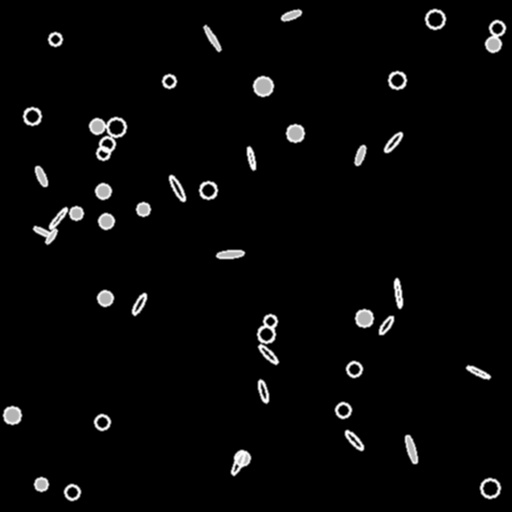pseudomonas: (202, 24, 222, 52), (168, 174, 186, 202), (257, 343, 279, 365), (343, 429, 365, 451), (48, 206, 68, 230), (383, 131, 403, 153), (130, 293, 148, 315), (404, 435, 418, 463), (466, 364, 490, 380), (230, 451, 246, 475), (377, 315, 395, 335), (353, 144, 367, 166), (280, 8, 302, 22), (34, 165, 48, 187), (257, 379, 269, 403), (33, 225, 53, 239), (216, 249, 244, 259), (394, 279, 402, 307), (246, 147, 256, 169), (45, 228, 57, 244)
synechocystis: (481, 479, 499, 497), (426, 10, 444, 28), (107, 118, 125, 136), (254, 77, 272, 95), (200, 182, 216, 198), (4, 407, 20, 423), (258, 326, 274, 342), (24, 108, 40, 124), (356, 310, 372, 326), (389, 72, 405, 88), (287, 125, 303, 141), (347, 362, 361, 376), (98, 291, 112, 305), (490, 21, 504, 35), (486, 37, 500, 51), (99, 214, 113, 228), (235, 451, 249, 465), (95, 415, 109, 429), (100, 137, 114, 151), (65, 485, 79, 499), (336, 403, 350, 417), (96, 184, 110, 198), (90, 119, 104, 133), (163, 75, 175, 87), (97, 147, 109, 159), (70, 207, 82, 219), (35, 478, 47, 490), (49, 33, 61, 45), (264, 315, 276, 327), (137, 203, 149, 215)
